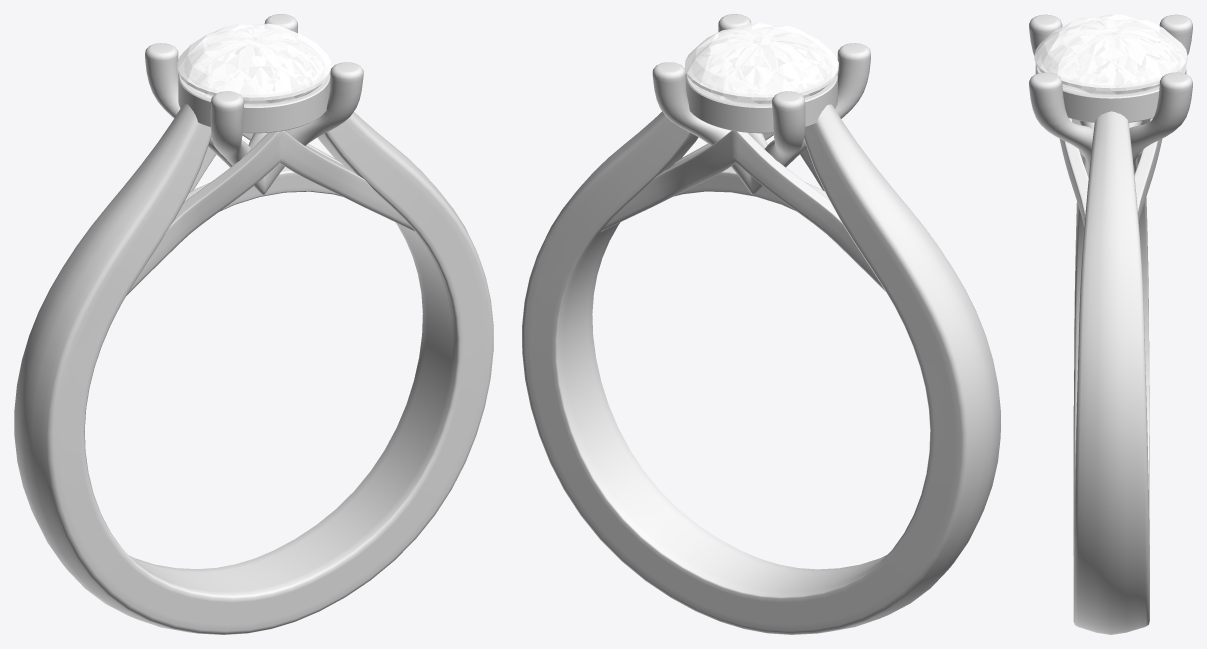
The model's file is ring.glb.
The picture shows the model from 3 angles, left to right: view 1: azimuth 30°, elevation 25°; view 2: azimuth 150°, elevation 25°; view 3: azimuth 270°, elevation 25°; orthographic projection.
Parts seen in each view (by area): view 1: main_Mesh.001, diamond_Mesh; view 2: main_Mesh.001, diamond_Mesh; view 3: main_Mesh.001, diamond_Mesh.
Part boxes in pixels (box(x1,y1,x2,y2)): main_Mesh.001: box(14, 14, 493, 634); diamond_Mesh: box(177, 23, 331, 104); main_Mesh.001: box(522, 14, 1000, 634); diamond_Mesh: box(685, 23, 838, 104); main_Mesh.001: box(1029, 14, 1192, 634); diamond_Mesh: box(1034, 14, 1187, 94).
Size of the model in its own units: 0.0209 by 0.0254 by 0.0065.
2 materials, 2 textured.
